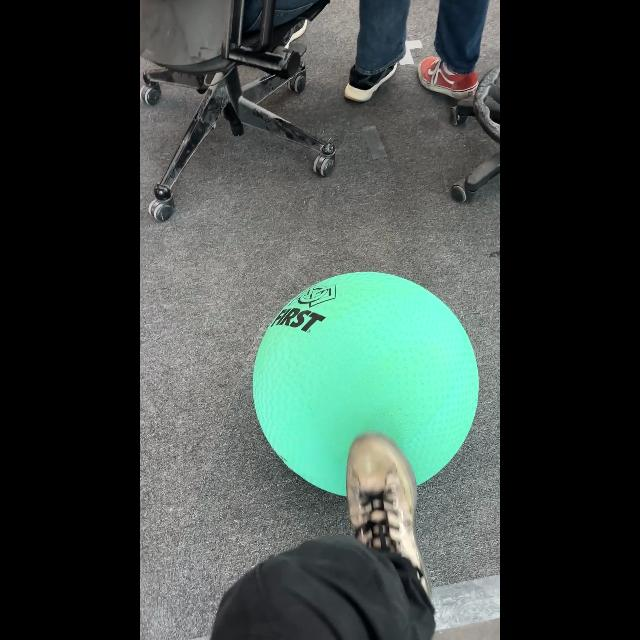ALGAE: (252, 270, 480, 498)
